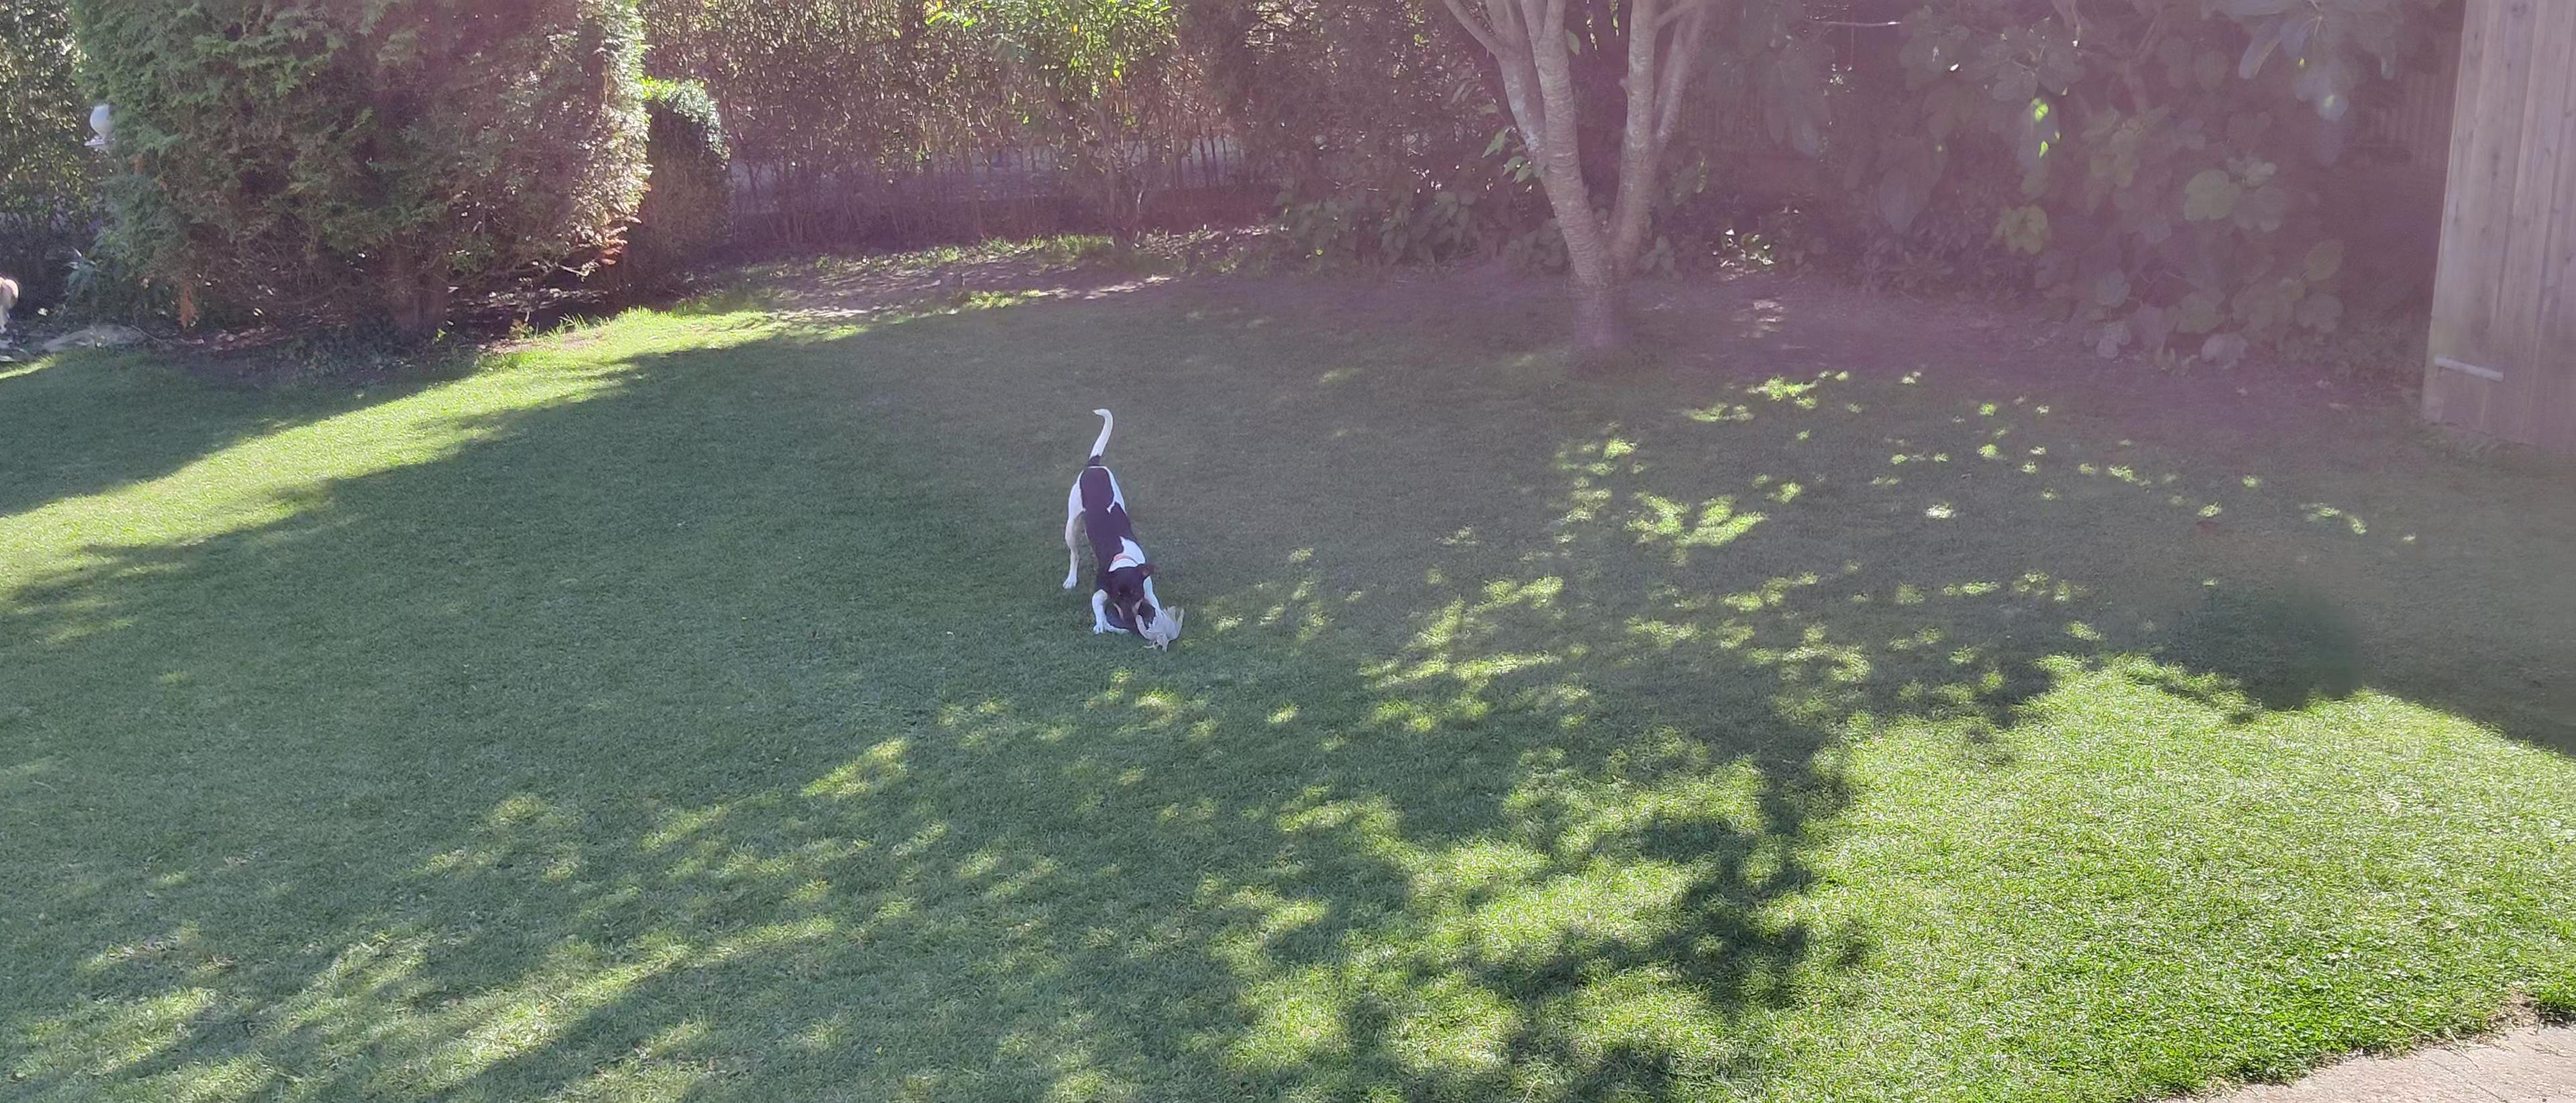Dog: (1060, 406, 1163, 635)
